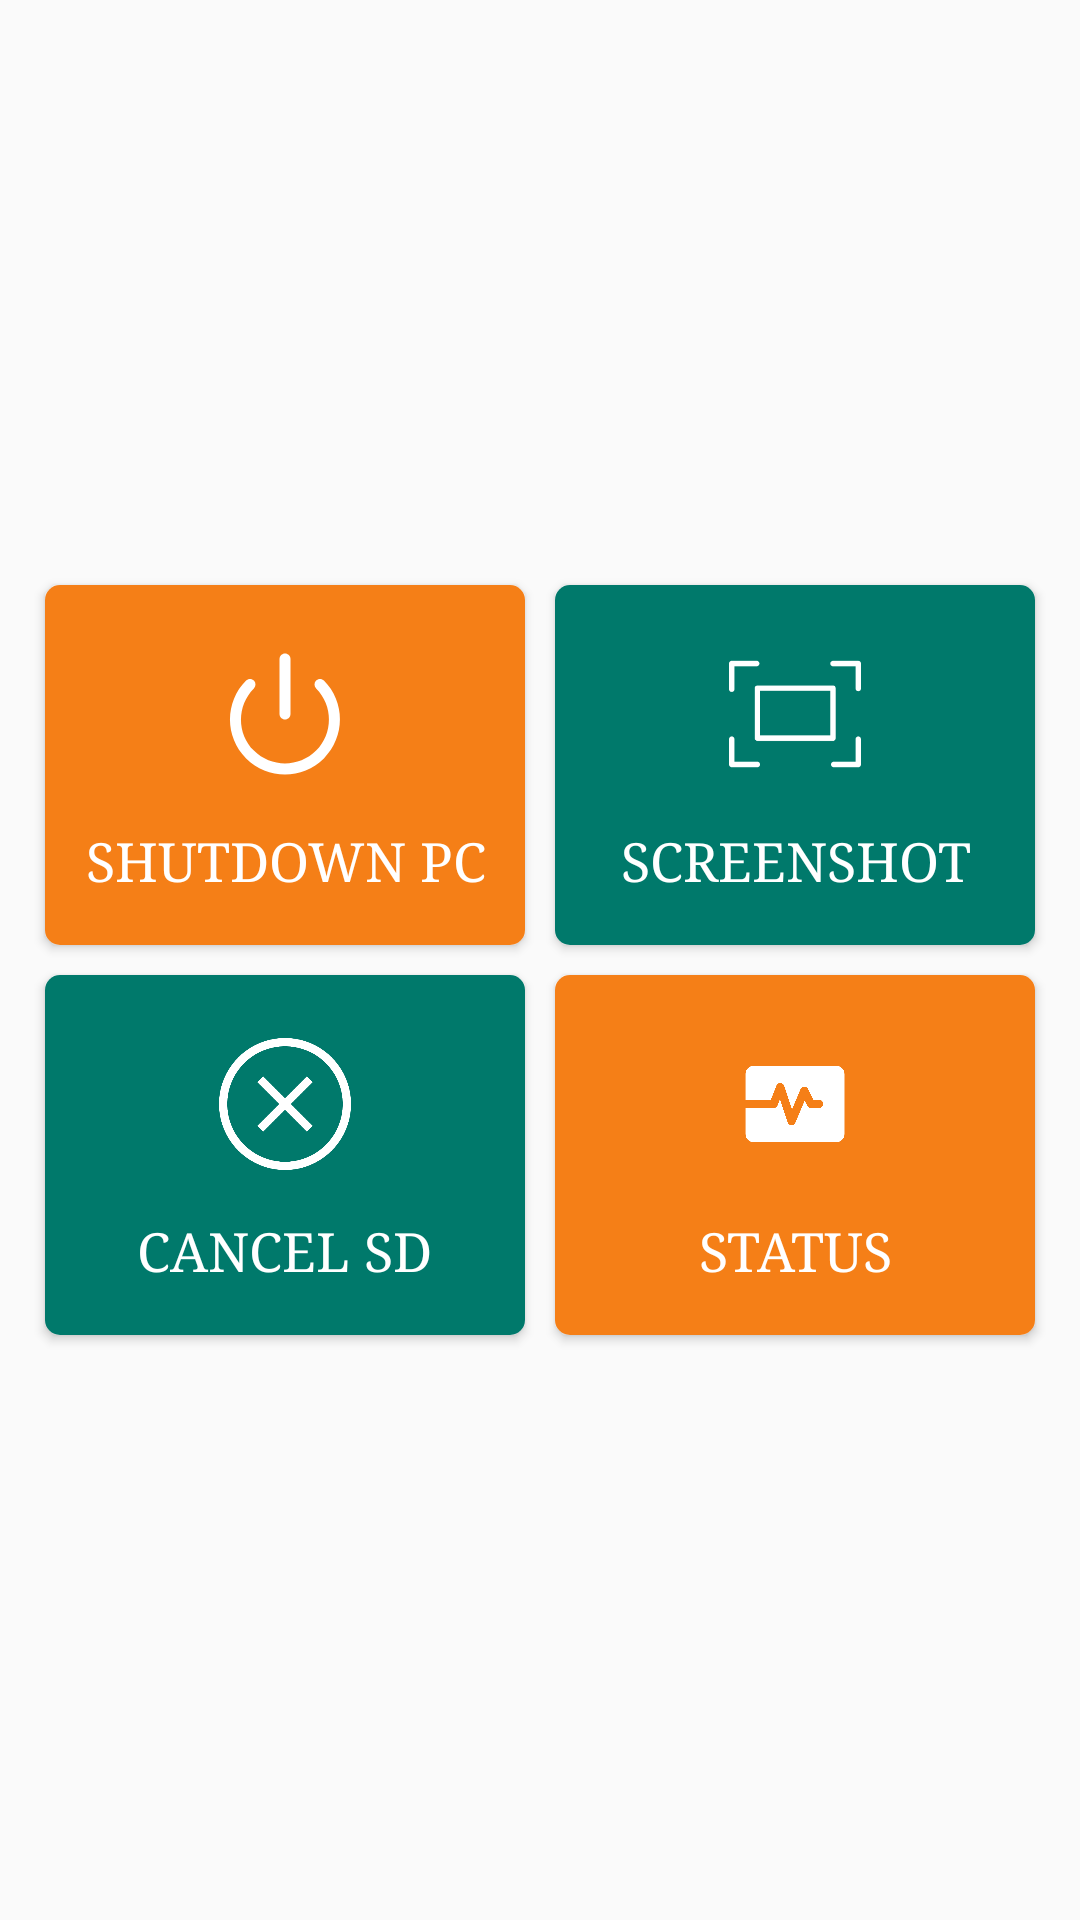

Icon bounding boxes for this 1080x1920 phone screenshot, format {"x1": x1, "y1": y1, "x2": x2, "y2": y2}:
can: {"x1": 219, "y1": 1038, "x2": 351, "y2": 1170}
